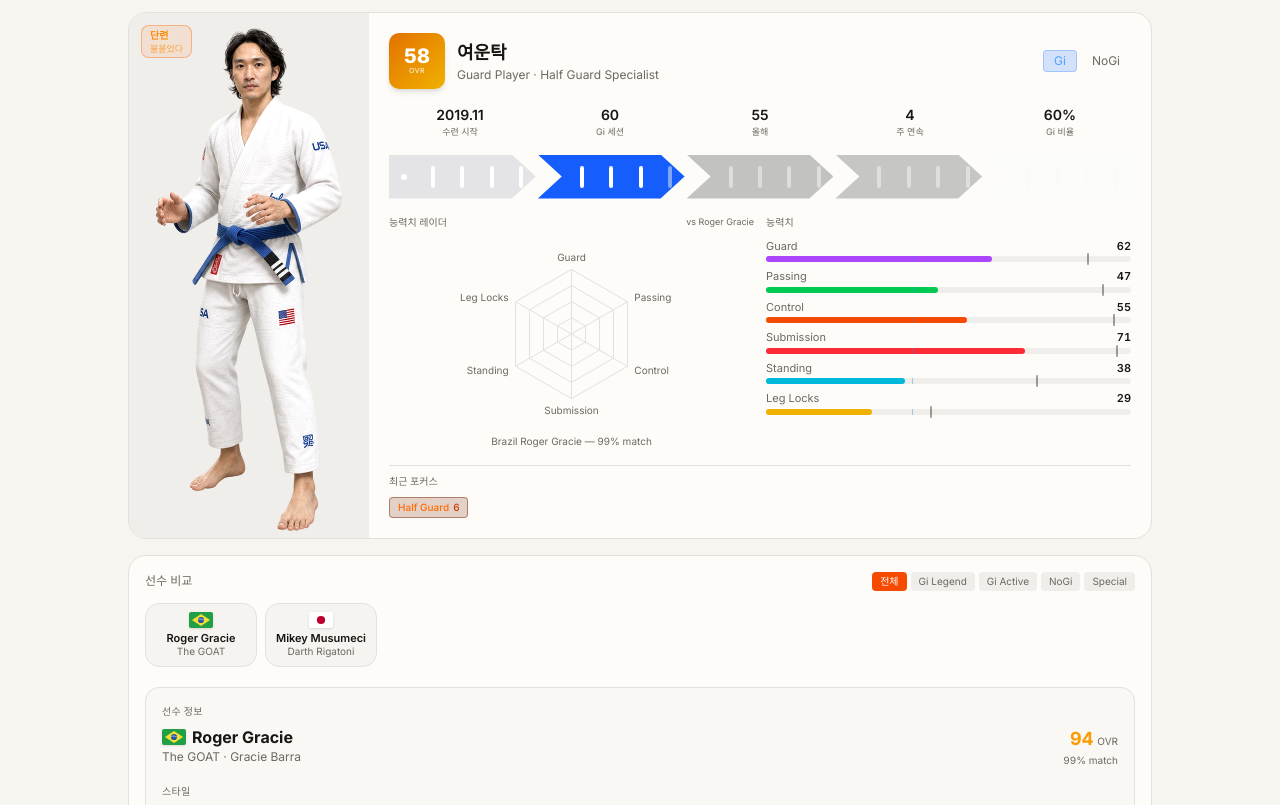
SenseiDashboard › NoGi 토글이면 노기 선수가 뜨고 요약 숫자도 노기 기준으로 바뀐다
Expected: the button "Gordon Ryan" is not shown
Expected: the text "Gi 세션" is shown, [596, 126, 624, 137]
Note: "NoGi" 버튼이 둘이다 — 상단 모드 토글과 선수 카테고리 칩. 먼저 나오는 게 토글
Click the button "NoGi" in the row of "Half Guard Specialist".
click(1106, 61)  # box [1081, 50, 1131, 72]
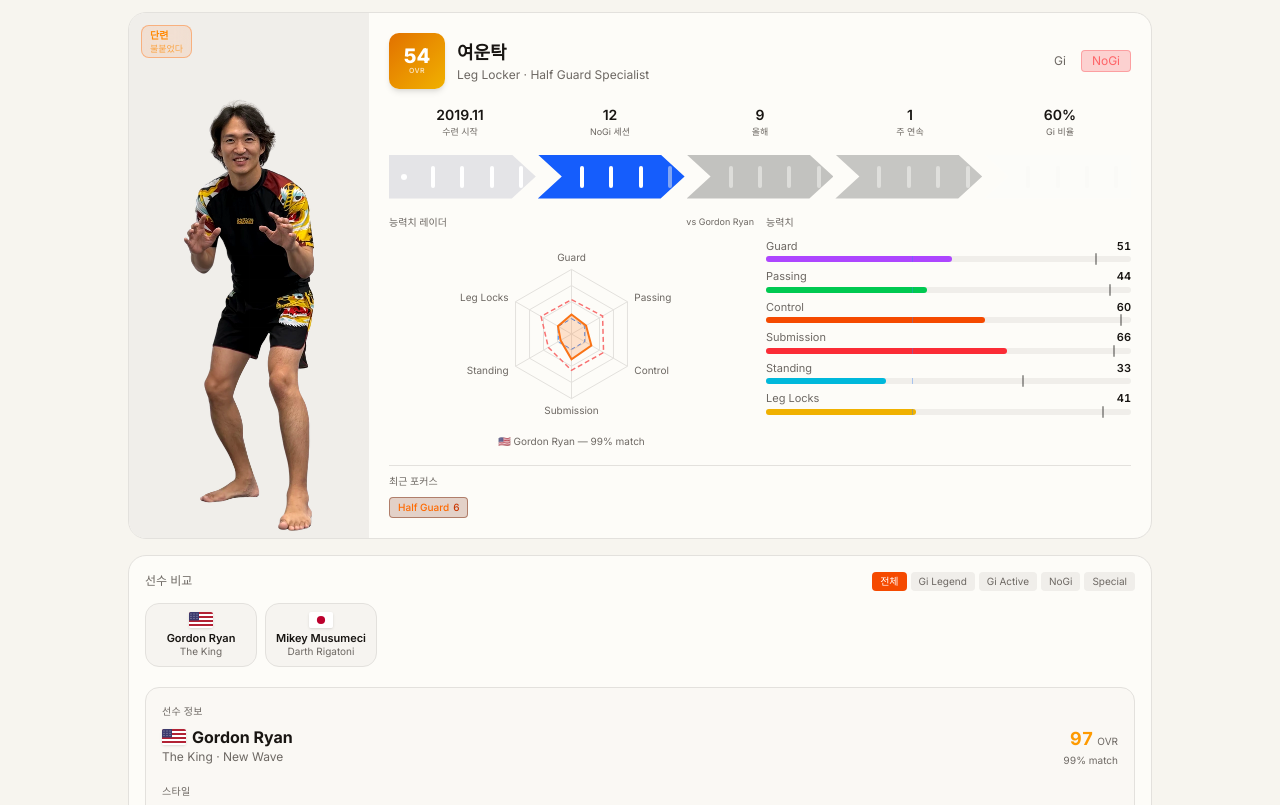
Result: the button "Gordon Ryan The King" is shown at [145, 602, 257, 667]
Result: the text "Roger Gracie" is gone
Result: the text "NoGi 세션" is shown at [590, 126, 630, 137]
